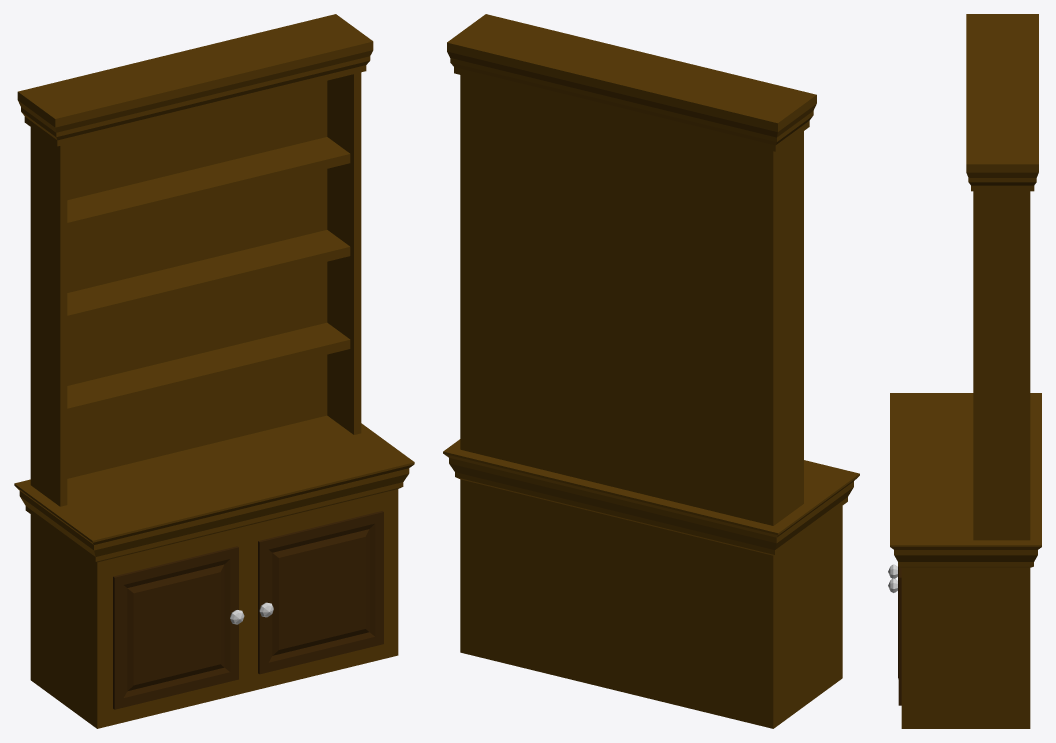
File: cabinet_shallow.fbx
The picture shows the model from 3 angles, left to right: view 1: azimuth 30°, elevation 25°; view 2: azimuth 150°, elevation 25°; view 3: azimuth 270°, elevation 25°; orthographic projection. The views are drawn at different scales.
Parts seen in each view (by area): view 1: shelves_short1, cabinet1, doors1; view 2: shelves_short1, cabinet1; view 3: cabinet1, shelves_short1, doors1.
Boxes of the visible parts, left/top/right/bottom form: shelves_short1: left=17, top=14, right=373, bottom=506; cabinet1: left=14, top=415, right=414, bottom=728; doors1: left=113, top=511, right=383, bottom=709; shelves_short1: left=447, top=14, right=816, bottom=525; cabinet1: left=443, top=439, right=859, bottom=728; cabinet1: left=890, top=393, right=1041, bottom=728; shelves_short1: left=966, top=14, right=1038, bottom=540; doors1: left=898, top=566, right=901, bottom=705.
Bounding box in the file's own units: 2.04 × 3.56 × 0.8731.
